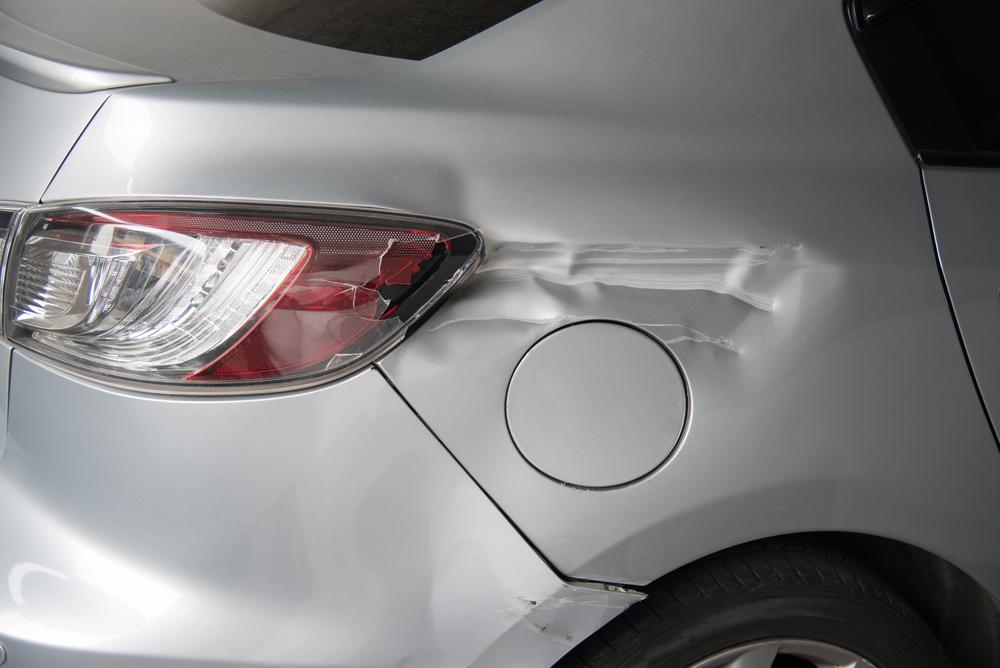dent: (359, 153, 846, 410)
lamp broken: (0, 201, 483, 396)
scratch: (494, 586, 634, 645)
